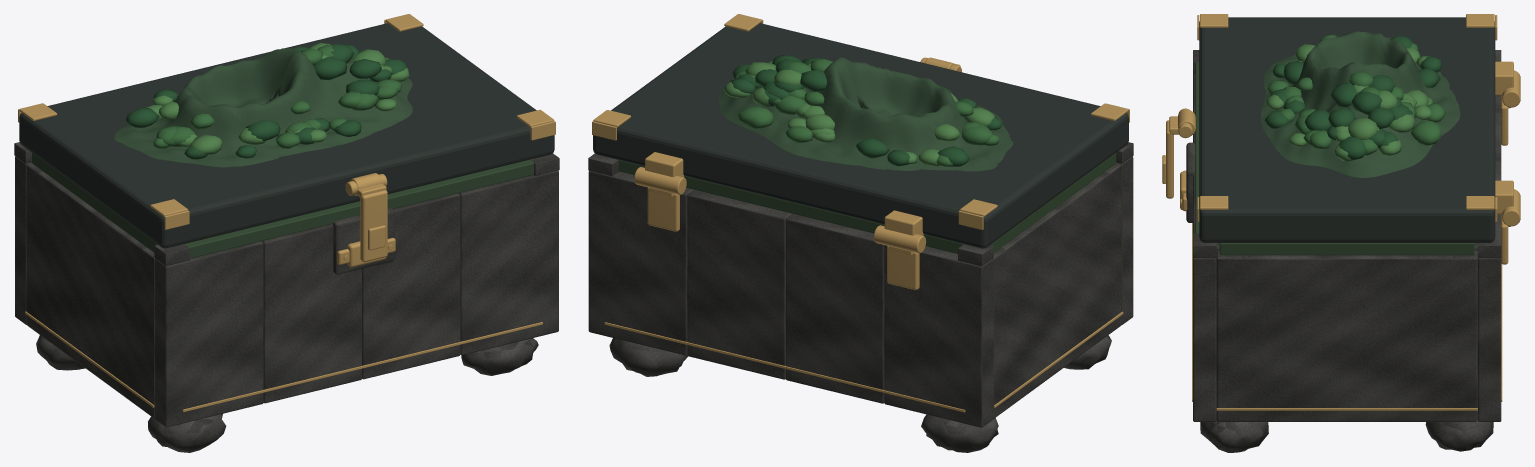
Rendered from equatorial-guinea.glb.
The picture shows the model from 3 angles, left to right: view 1: azimuth 30°, elevation 25°; view 2: azimuth 150°, elevation 25°; view 3: azimuth 270°, elevation 25°; orthographic projection.
Visible parts, largest first — view 1: Lid / polished slab, Basalt / side panel, Basalt / long panel, Basalt / long panel.003, Terrain / shield and caldera, Basalt / long panel.001, Basalt / long panel.002, Mineral seam / long, Basalt foot, Basalt / long panel.004, Basalt foot.002, Basalt / clasp seat (+6 smaller); view 2: Lid / polished slab, Basalt / side panel, Basalt / long panel.006, Basalt / long panel.004, Basalt / long panel.005, Basalt / long panel.007, Terrain / shield and caldera, Mineral seam / long.001, Basalt / long panel, Basalt foot.001, Basalt foot.003, Mineral seam / side (+11 smaller); view 3: Lid / polished slab, Basalt / side panel.001, Terrain / shield and caldera, Basalt / long panel.007, Basalt / long panel.003, Mineral seam / side.001, Basalt foot.002, Basalt foot.003, Mineral seam / long, Brass / side lower edge.001, Basalt / clasp seat, Canopy / crown 31 (+18 smaller).
Part boxes in pixels (x1,y1,x2,y2): Lid / polished slab: [19, 23, 554, 248]; Basalt / side panel: [26, 163, 155, 418]; Basalt / long panel: [155, 241, 263, 427]; Basalt / long panel.003: [458, 170, 558, 355]; Terrain / shield and caldera: [114, 48, 412, 167]; Basalt / long panel.001: [261, 223, 361, 403]; Basalt / long panel.002: [362, 193, 460, 379]; Mineral seam / long: [184, 159, 533, 258]; Basalt foot: [148, 414, 226, 452]; Basalt / long panel.004: [15, 156, 31, 324]; Basalt foot.002: [461, 338, 538, 375]; Basalt / clasp seat: [333, 208, 394, 274]; Lid / polished slab: [593, 23, 1128, 248]; Basalt / side panel: [993, 163, 1121, 418]; Basalt / long panel.006: [687, 190, 792, 379]; Basalt / long panel.004: [884, 245, 992, 427]; Basalt / long panel.005: [786, 214, 884, 403]; Basalt / long panel.007: [588, 170, 694, 355]; Terrain / shield and caldera: [718, 57, 1012, 171]; Mineral seam / long.001: [618, 160, 963, 253]; Basalt / long panel: [1116, 156, 1133, 324]; Basalt foot.001: [921, 414, 998, 452]; Basalt foot.003: [609, 338, 688, 376]; Mineral seam / side: [990, 153, 1116, 252]; Lid / polished slab: [1199, 17, 1495, 242]; Basalt / side panel.001: [1216, 250, 1477, 421]; Terrain / shield and caldera: [1260, 31, 1460, 177]; Basalt / long panel.007: [1478, 214, 1501, 421]; Basalt / long panel.003: [1193, 210, 1216, 421]; Mineral seam / side.001: [1219, 243, 1474, 255]; Basalt foot.002: [1200, 420, 1268, 452]; Basalt foot.003: [1425, 420, 1493, 451]; Mineral seam / long: [1195, 62, 1199, 233]; Brass / side lower edge.001: [1216, 408, 1477, 410]; Basalt / clasp seat: [1186, 142, 1195, 222]; Canopy / crown 31: [1411, 120, 1440, 145].
Size of the model in its own units: 3.74 by 2.8 by 2.88.
Materials: 9 (1 with a texture image).
